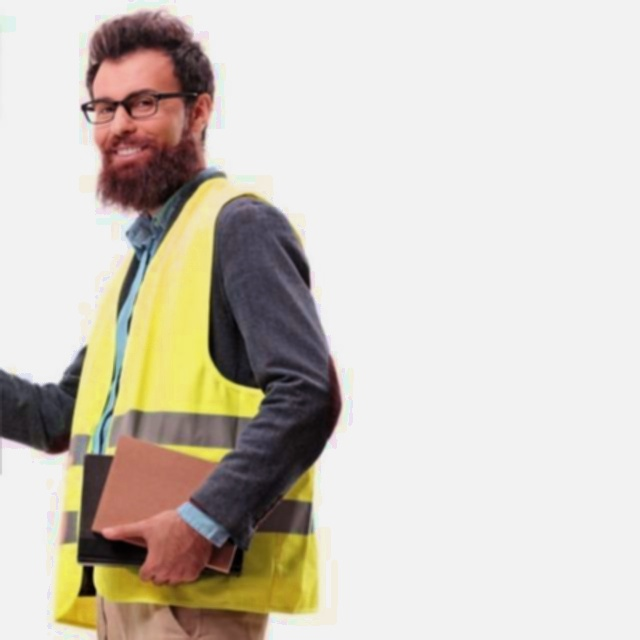Con_Chaleco: (48, 190, 316, 617)
Sin_Casco_Mascarrilla: (83, 13, 216, 203)
